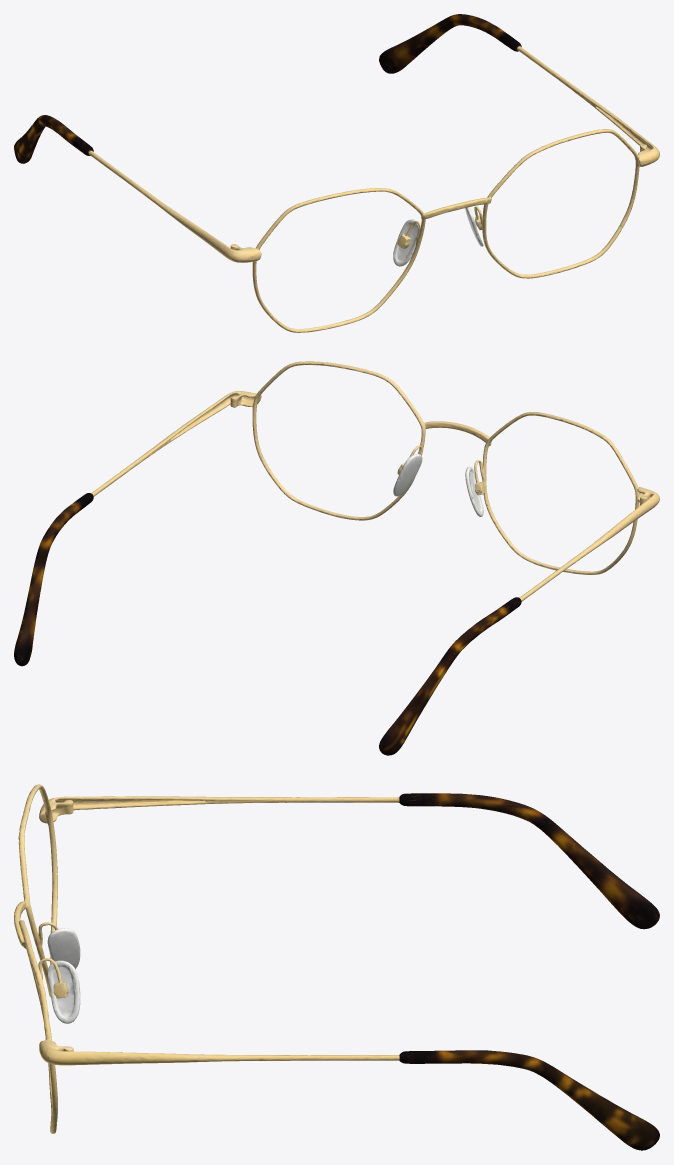
The model's file is gold-glasses.glb.
The picture shows the model from 3 angles, top to bottom: view 1: azimuth 30°, elevation 25°; view 2: azimuth 150°, elevation 25°; view 3: azimuth 270°, elevation 25°; orthographic projection. The views are drawn at different scales.
Parts seen in each view (by area): view 1: Mesh_0; view 2: Mesh_0; view 3: Mesh_0.
Boxes of the visible parts, x1,y1,x2,y2 form: Mesh_0: (14,14,659,332); Mesh_0: (14,361,659,755); Mesh_0: (14,784,659,1150).
Size of the model in its own units: 0.963 by 0.3013 by 1.
Materials: 1 (1 with a texture image).
